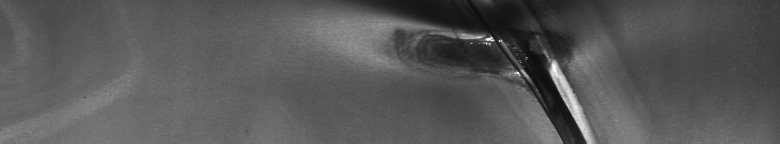ke: (391, 16, 588, 136)
